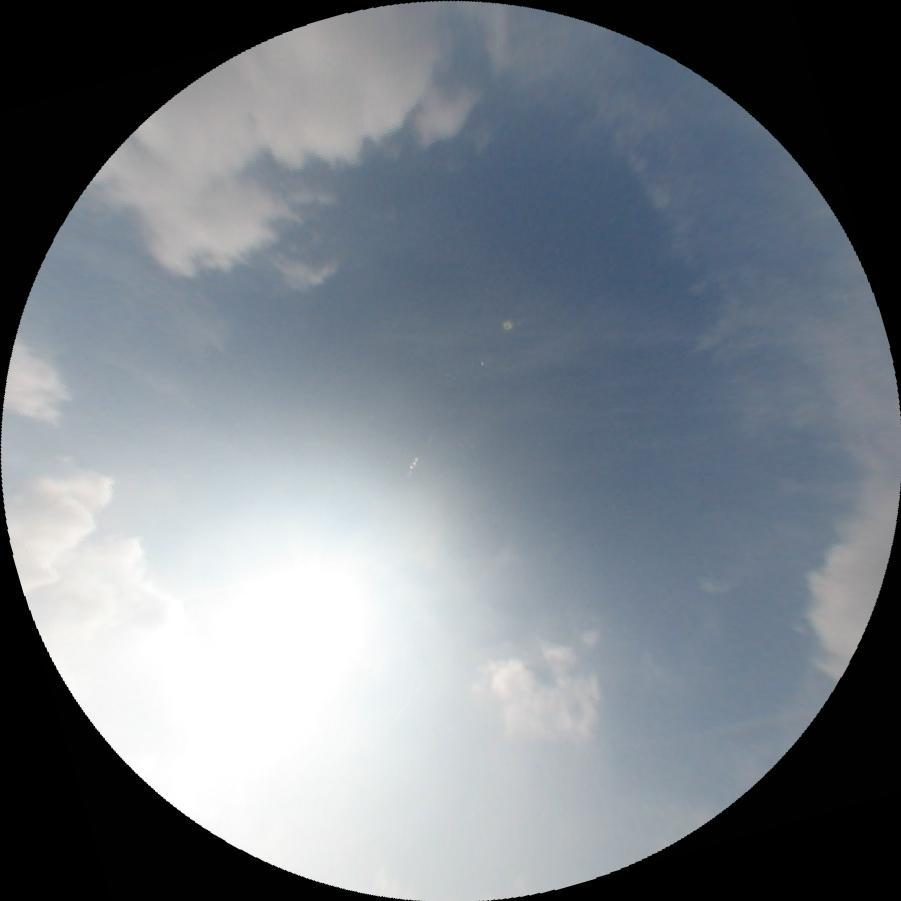sun: (194, 546, 405, 763)
